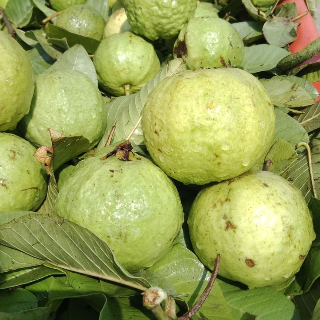oi: (54, 150, 181, 271), (142, 69, 275, 182), (187, 171, 314, 287)
